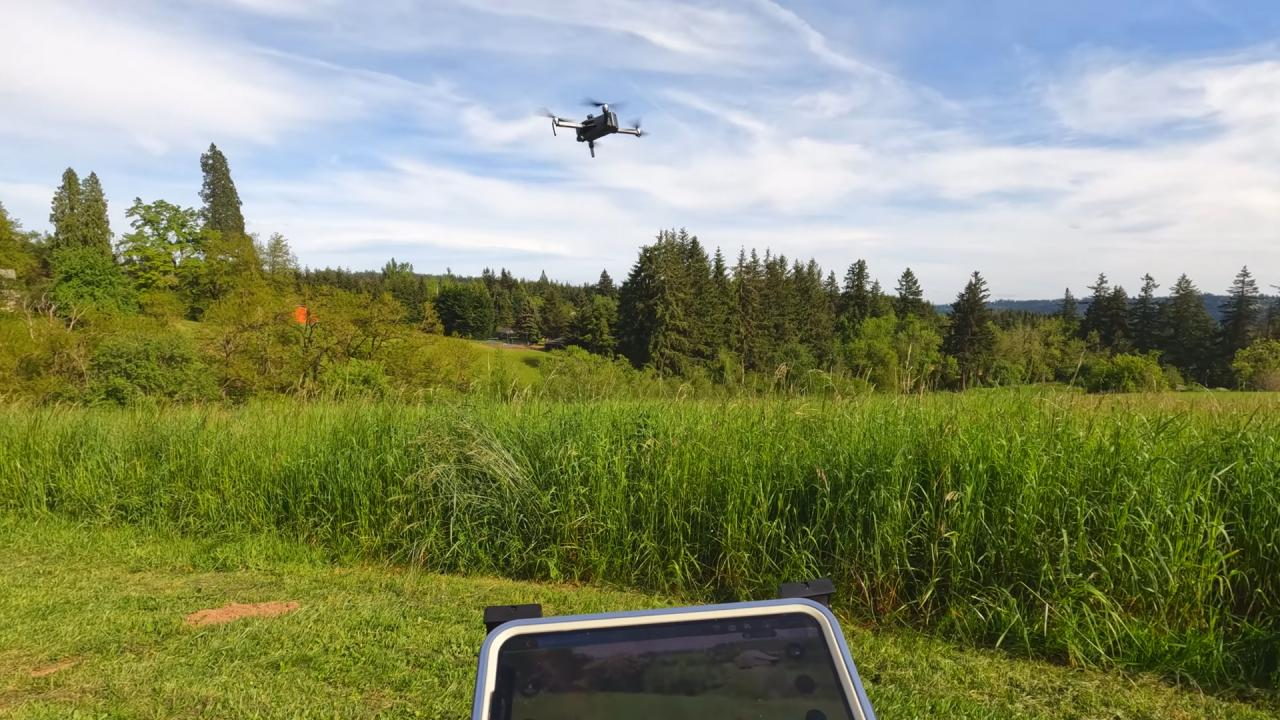Drone: (525, 86, 658, 169)
